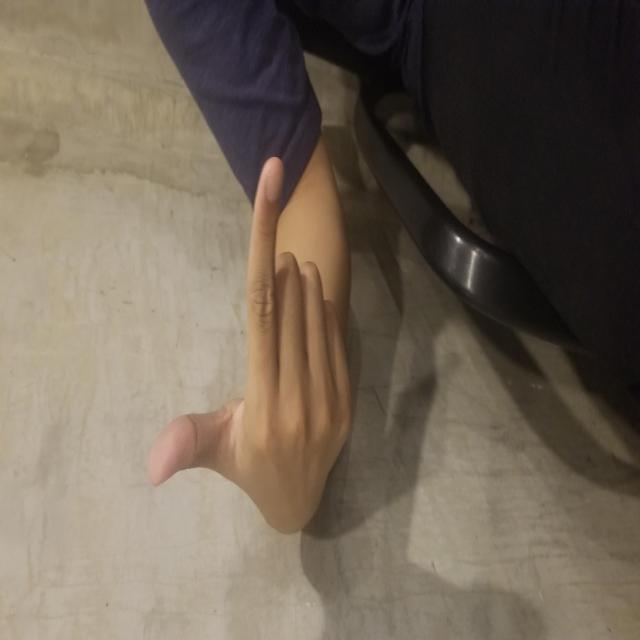G: (139, 147, 481, 354)
